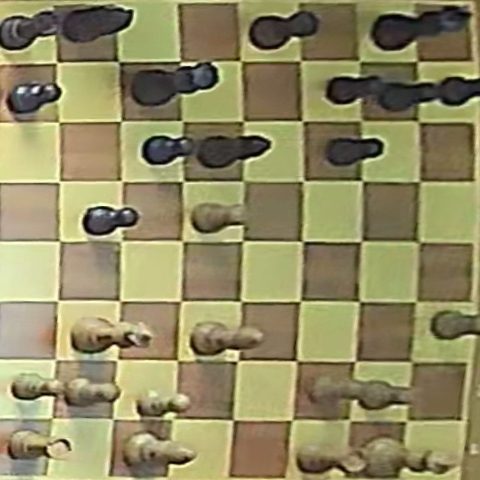black-bishop: (198, 136, 272, 169)
black-king: (373, 5, 471, 51)
black-knight: (60, 5, 133, 44)
black-pawn: (376, 79, 442, 112), (327, 75, 389, 105), (7, 81, 61, 115), (83, 205, 139, 236), (326, 137, 384, 166), (143, 135, 195, 165), (436, 75, 478, 106)
black-queen: (131, 64, 217, 107)
black-rook: (251, 11, 319, 50), (0, 11, 59, 51)
white-bishop: (124, 431, 196, 469), (192, 322, 264, 354)
white-king: (360, 436, 458, 476)
white-pawn: (357, 379, 419, 413), (310, 375, 369, 403), (192, 202, 247, 232), (66, 378, 121, 406), (134, 391, 191, 418), (431, 310, 478, 340), (12, 374, 65, 400)
white-queen: (73, 317, 152, 353)
white-rook: (297, 441, 370, 476), (8, 431, 71, 460)
